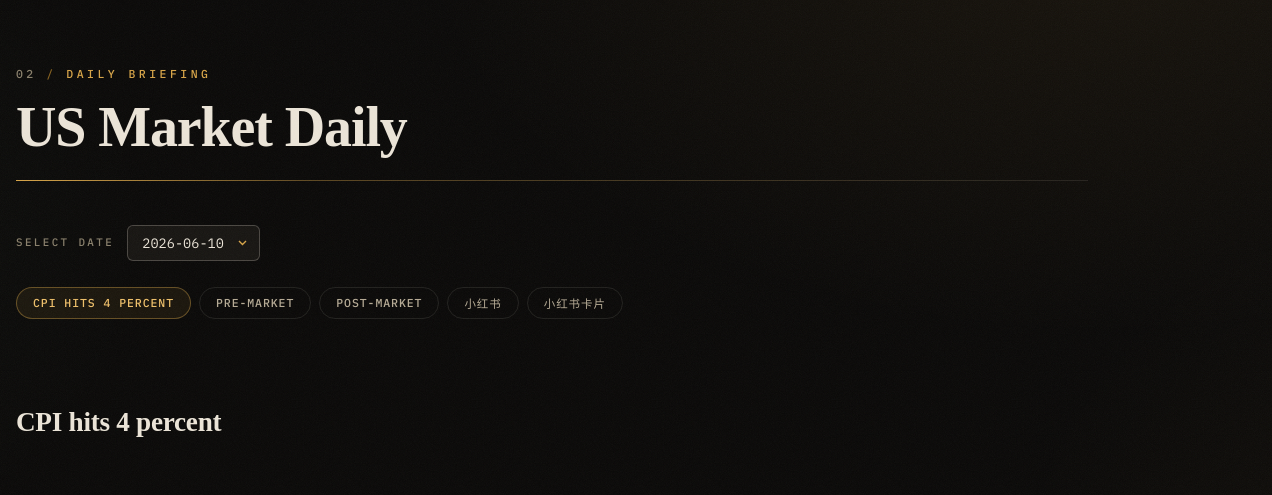
MarketPage › switches to a session report when its tab is clicked
The image size is (1272, 495).
Expected: the heading "CPI hits 4 percent" is shown, [16, 407, 221, 437]
Click the button "Pre-Market" at (255, 303), box [199, 287, 311, 319]
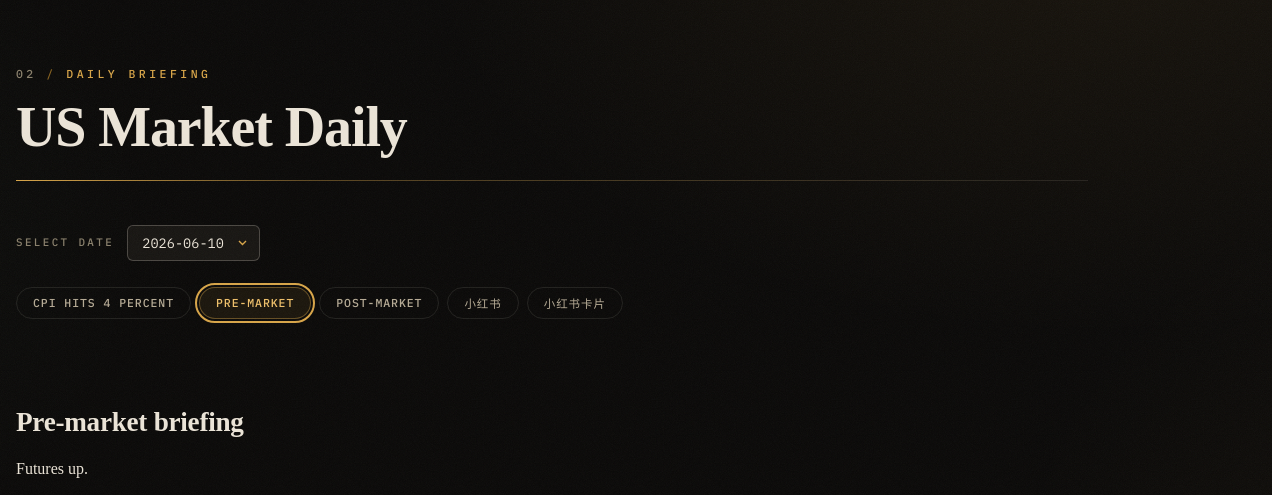
Now the heading "Pre-market briefing" is shown, box [16, 407, 244, 437]
Now the text "Futures up." is shown, box [16, 460, 88, 476]
